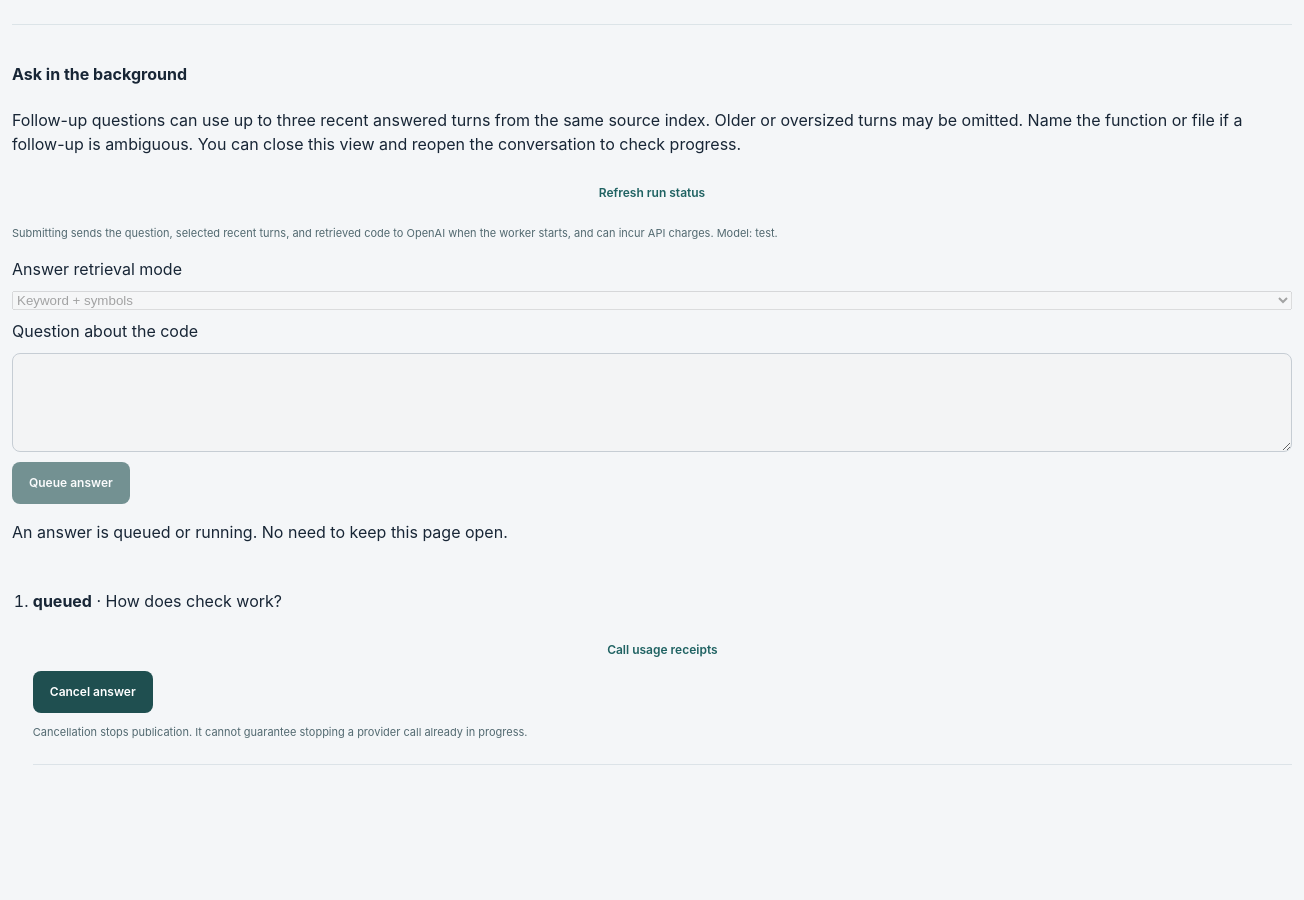
Test: durable answer UI › recovers an active run from the server and cancels it without resubmission
Expected: the text "An answer is queued or running. No need to keep this page open." is shown, x1=12 y1=522 x2=508 y2=542
Expected: the button "Queue answer" is disabled, x1=12 y1=462 x2=130 y2=504
Step 1. Click the button "Cancel answer" → (93, 692), box x1=33 y1=671 x2=153 y2=713
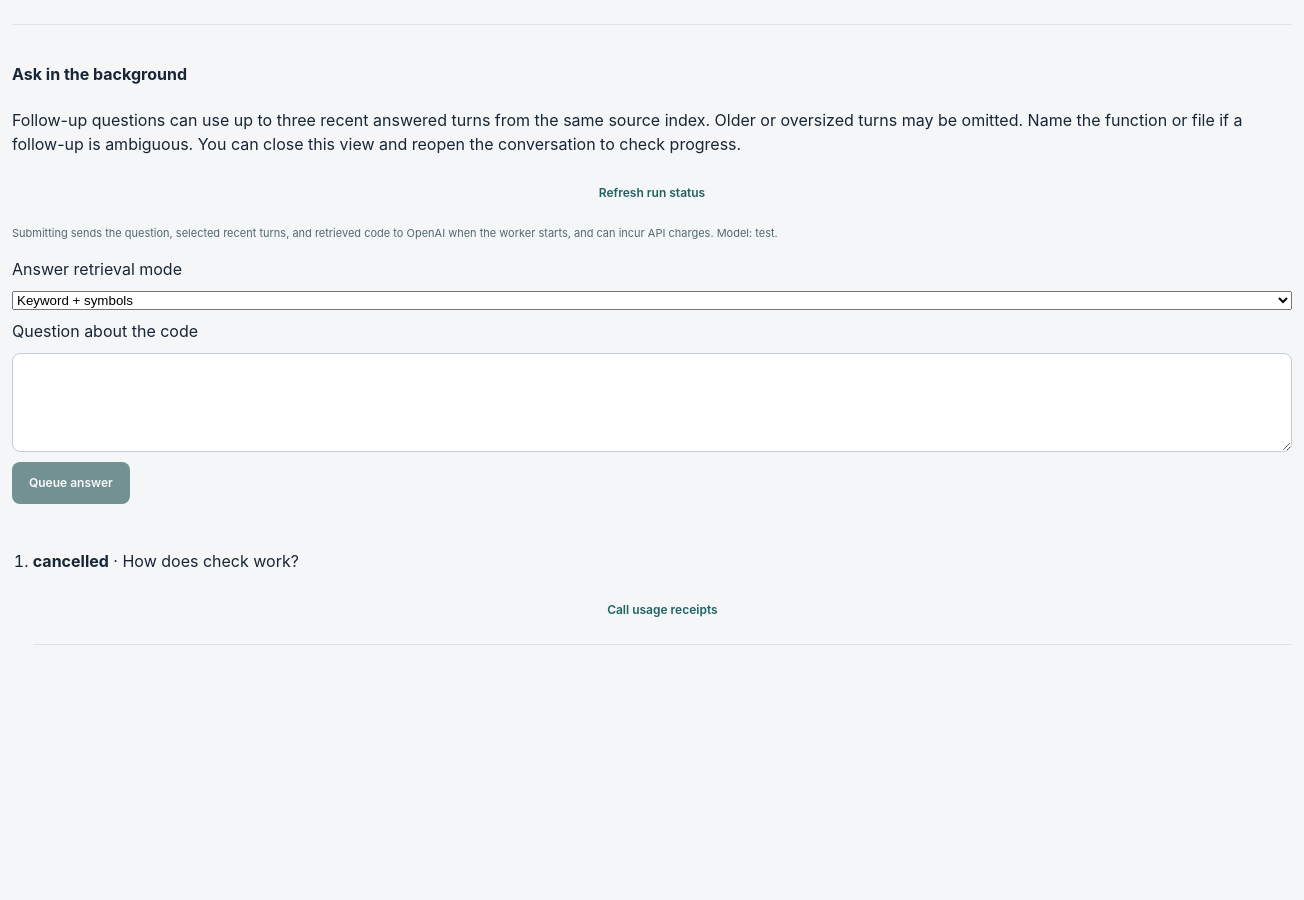
Result: the text "cancelled" is shown at x1=33 y1=551 x2=109 y2=571
